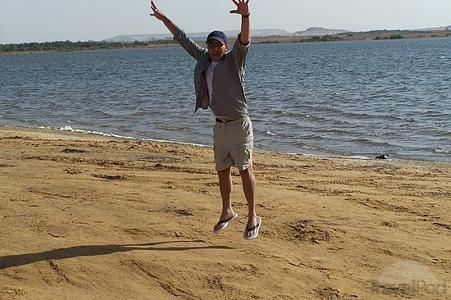person: (148, 1, 264, 238)
